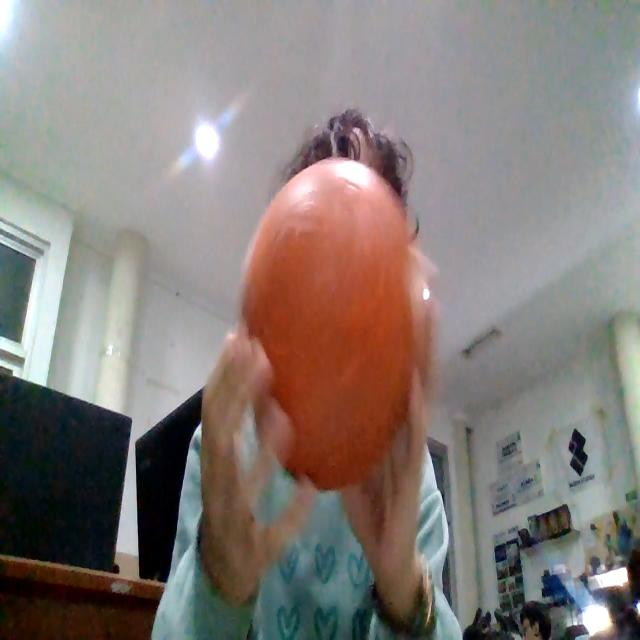ball: (240, 156, 414, 492)
